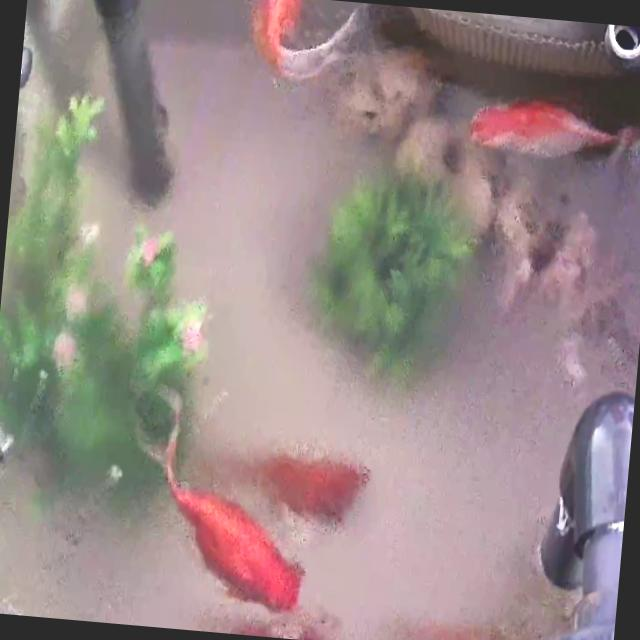fish: (143, 471, 320, 614), (468, 92, 622, 165), (252, 449, 366, 528), (244, 0, 309, 78), (232, 617, 353, 640), (407, 617, 515, 640)
